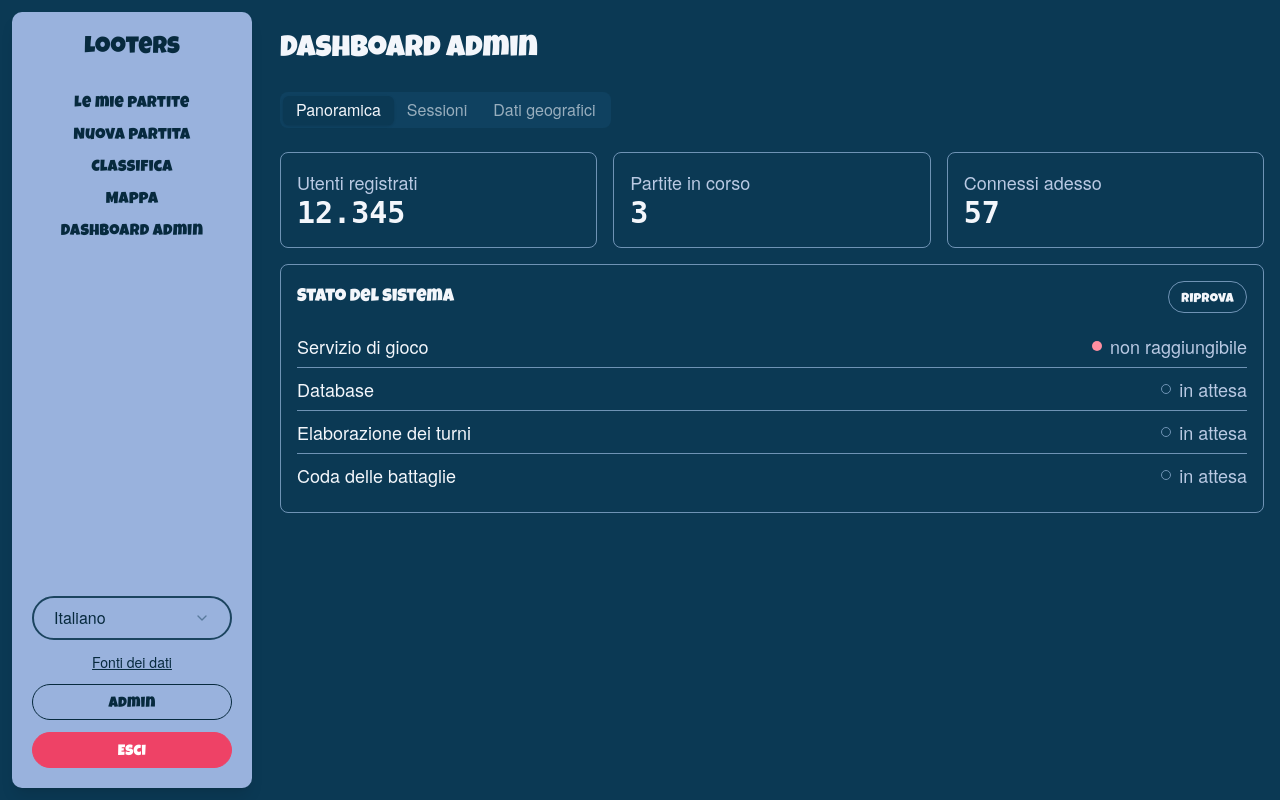
Test: geographic data › explains why a file was refused, feature by feature
This screenshot has width=1280, height=800.
Click the tab "Dati geografici". click: click(544, 110)
box: [480,96,608,124]
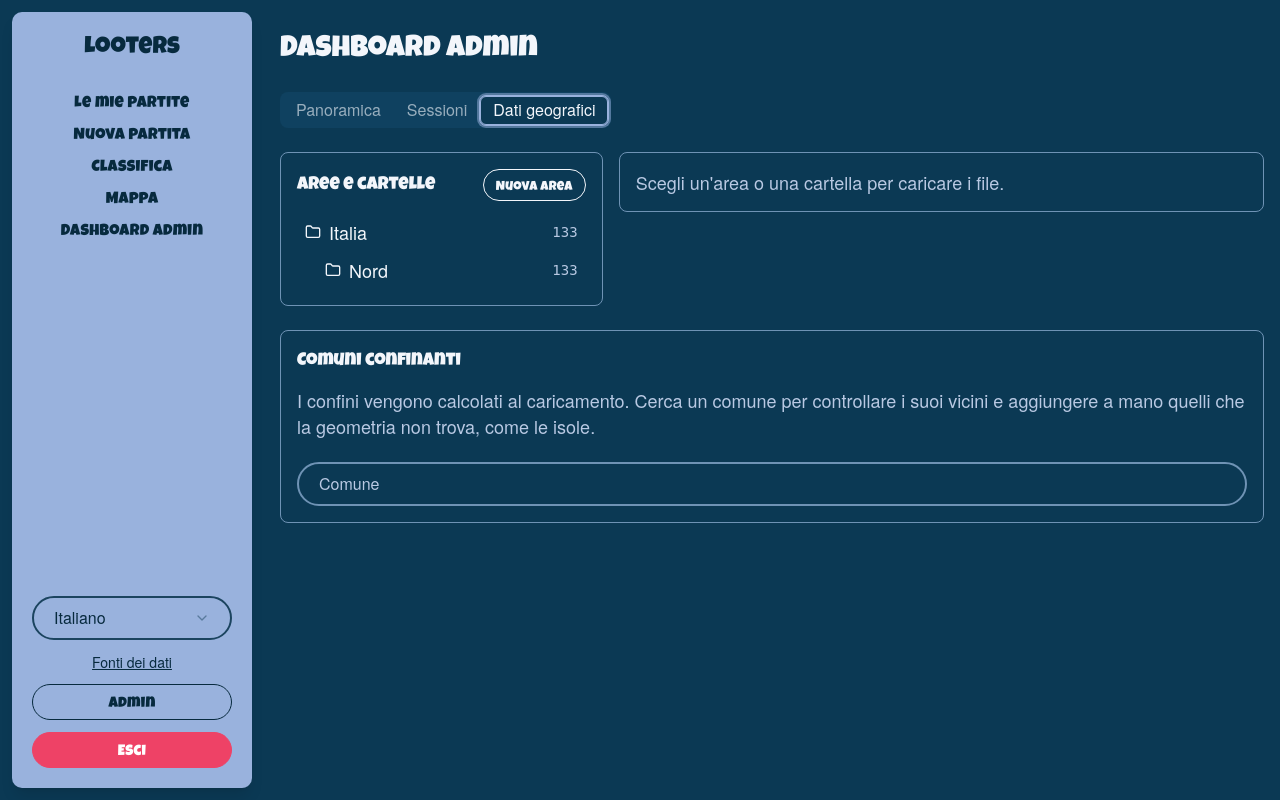
Click the button "Nord 133". click: click(369, 270)
box: [297,251,586,289]
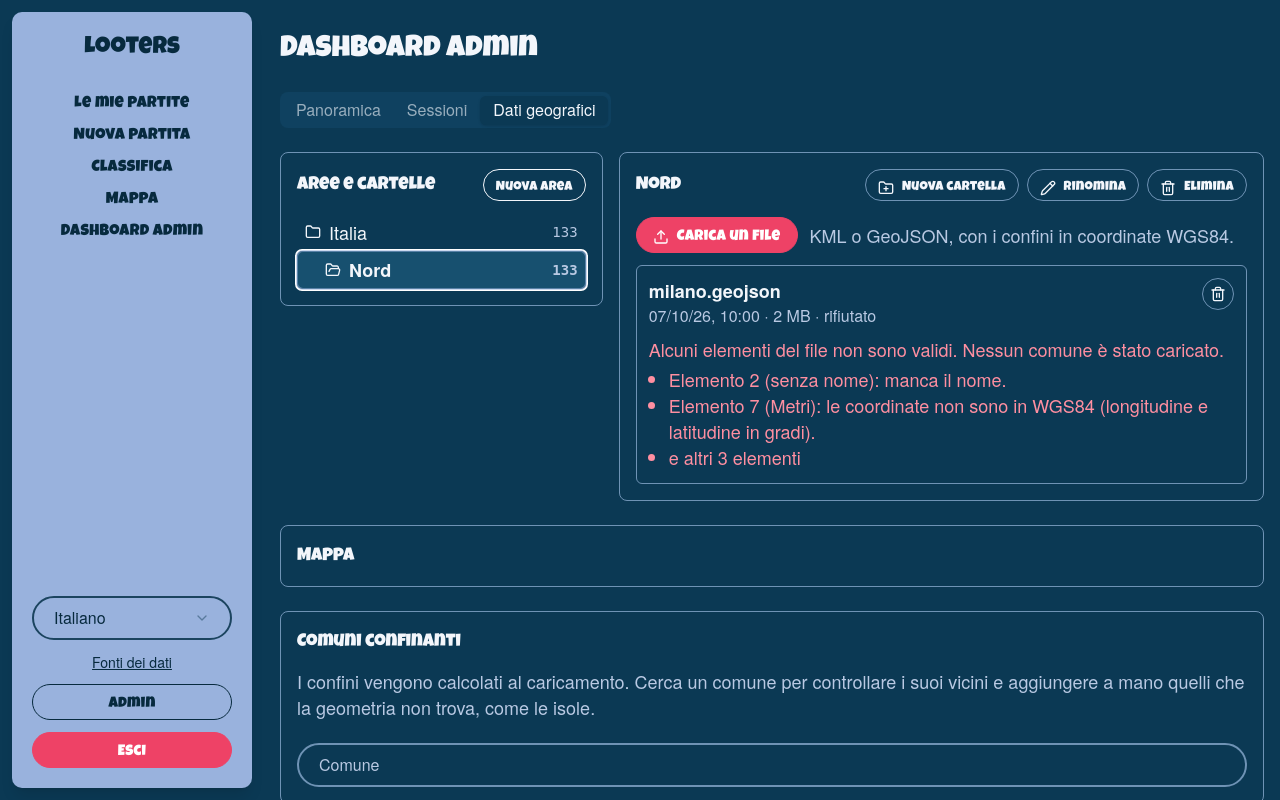
Result: the message shows "Nessun comune è stato caricato." at [649,336,1224,362]
Result: the message shows "Elemento 2 (senza nome): manca il nome." at [649,336,1234,471]
Result: the message shows "Elemento 7 (Metri): le coordinate non sono in WGS84" at [649,336,1234,471]
